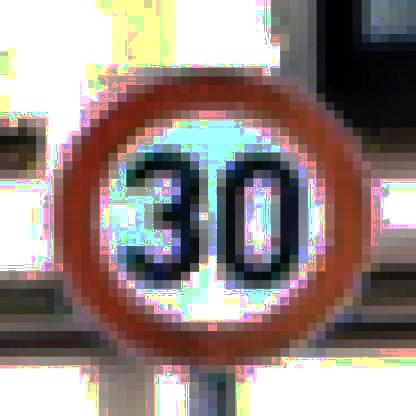Speed Limit -30-: (49, 60, 373, 370)
